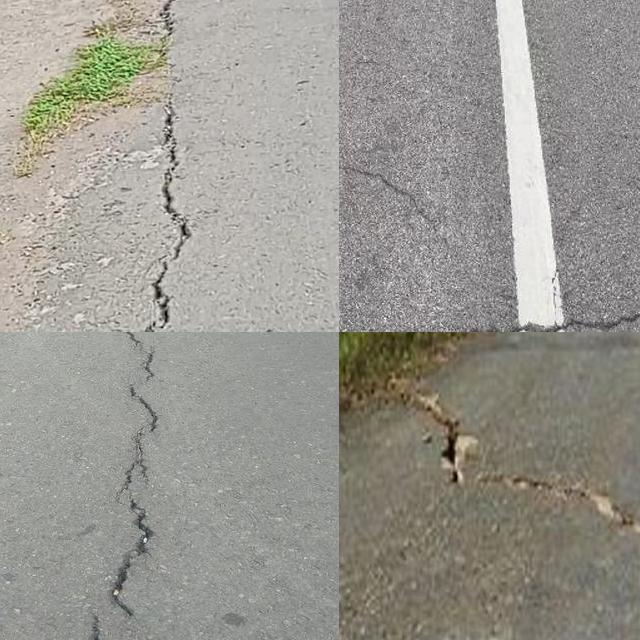Melintang: (373, 373, 640, 557), (339, 147, 469, 263), (339, 299, 640, 332)
Memanjang: (80, 332, 168, 640), (127, 0, 202, 332)
